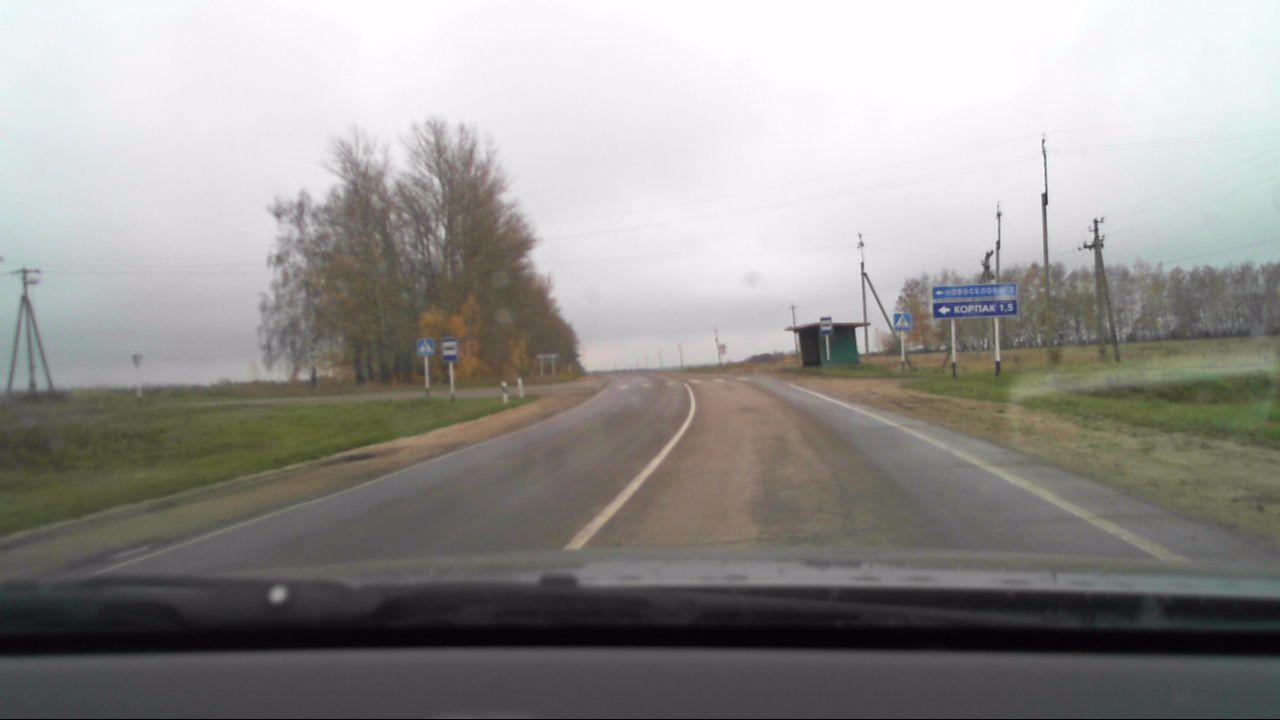5_16: (818, 315, 836, 338), (441, 337, 458, 361)
5_19_1: (895, 313, 911, 329)
5_19_2: (417, 339, 434, 355)
